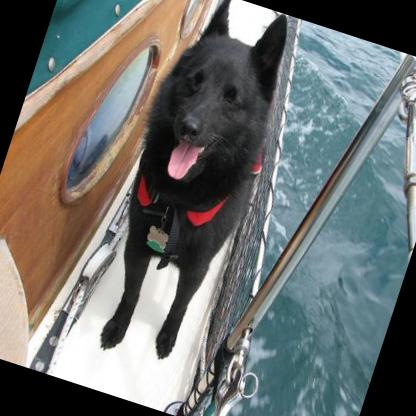schipperke: (68, 0, 317, 375), (72, 0, 307, 376)
